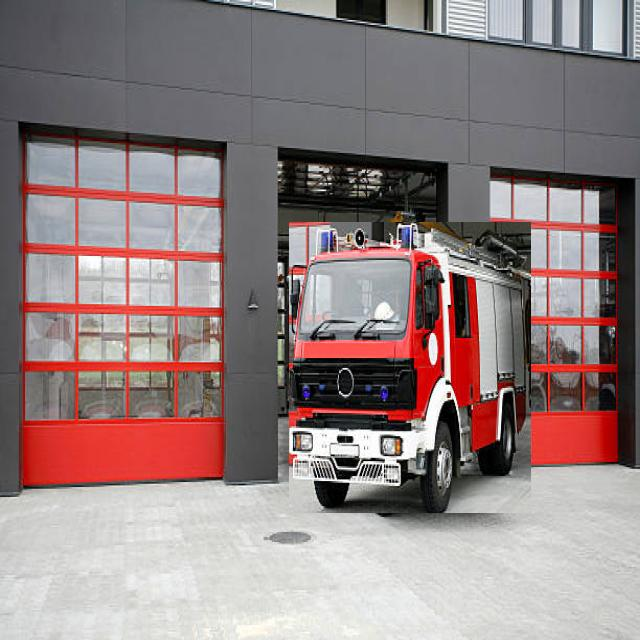emergency: (289, 222, 531, 513)
